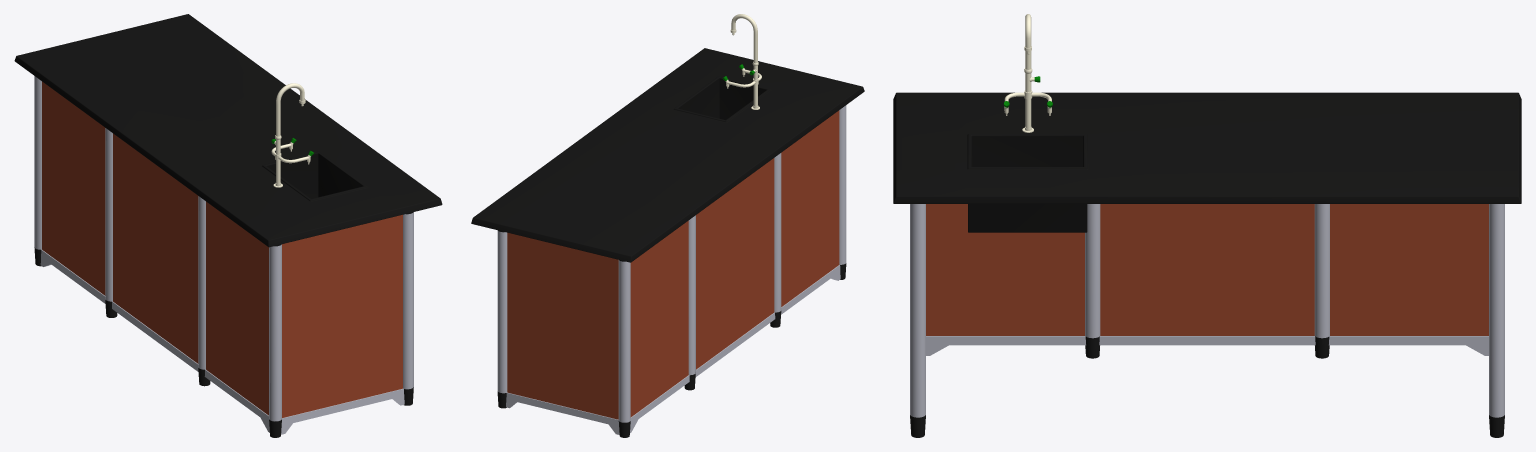
The model's file is chemistry_table.fbx.
3 renders of one model, left to right at view 1: azimuth 30°, elevation 25°; view 2: azimuth 150°, elevation 25°; view 3: azimuth 270°, elevation 25°, orthographic. The views are drawn at different scales.
Parts seen in each view (by area): view 1: Table_leg, Table_face, water_tap; view 2: Table_leg, Table_face, water_tap; view 3: Table_leg, Table_face, water_tap.
Boxes of the visible parts, <box> form: Table_leg: <box>34,76,413,437</box>; Table_face: <box>14,14,442,247</box>; water_tap: <box>271,83,313,187</box>; Table_leg: <box>497,105,846,437</box>; Table_face: <box>471,48,864,262</box>; water_tap: <box>722,14,761,109</box>; Table_leg: <box>910,204,1504,437</box>; Table_face: <box>893,92,1521,232</box>; water_tap: <box>1003,14,1052,132</box>.
Bounding box in the file's own units: 108 × 181 × 274.
